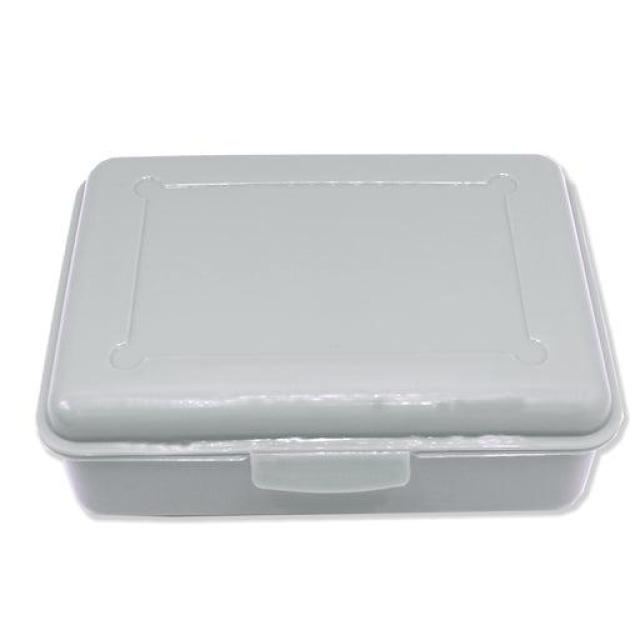styrofoam: (34, 151, 628, 519)
